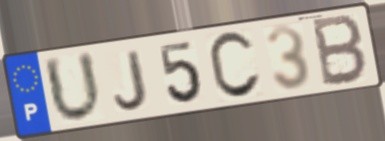3: (266, 22, 311, 95)
5: (157, 38, 205, 107)
B: (311, 12, 370, 89)
C: (206, 29, 264, 103)
J: (112, 47, 150, 113)
U: (40, 49, 105, 126)
